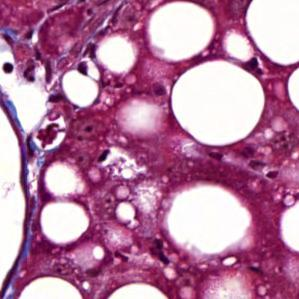steatosis: (172, 63, 266, 144), (35, 199, 89, 246), (60, 64, 104, 109)
